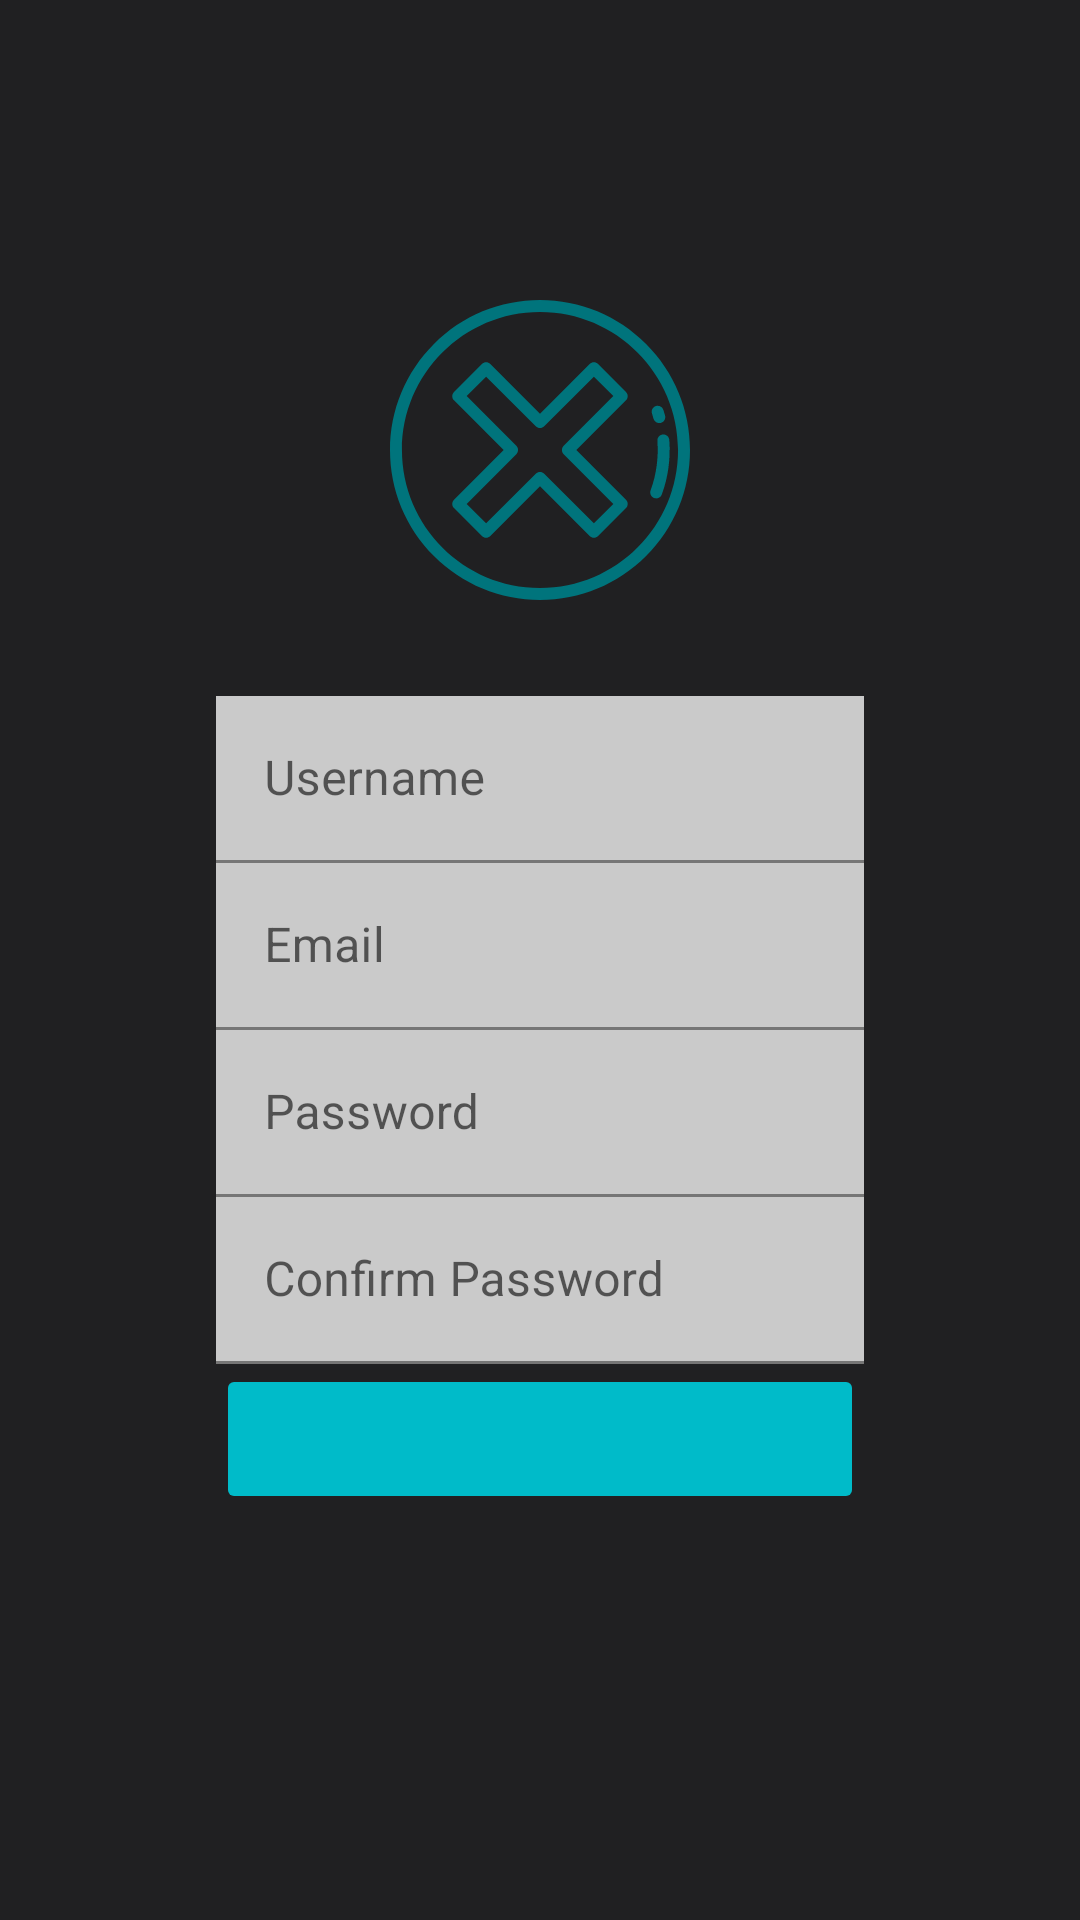

Where to tap for icons on this 1080px×1920px app screen, as point (x, y):
error: point (540, 450)
